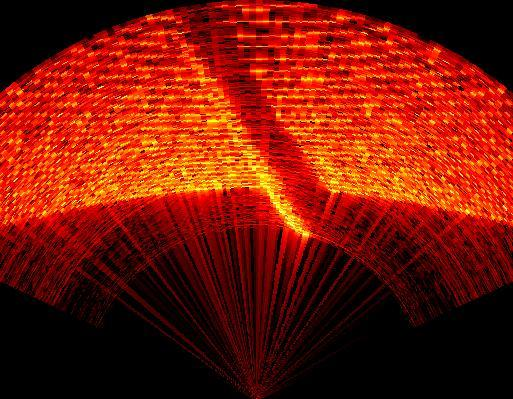pipe: (160, 1, 337, 240)
